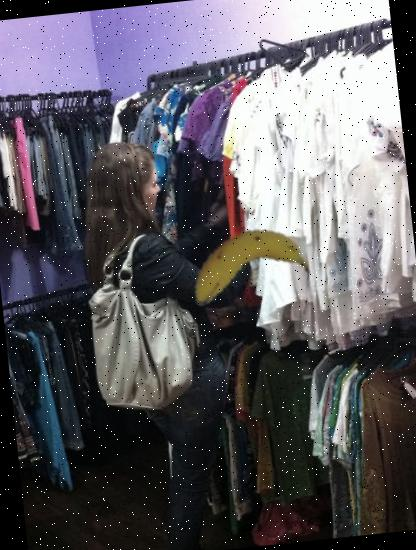Banana: (178, 201, 310, 333)
